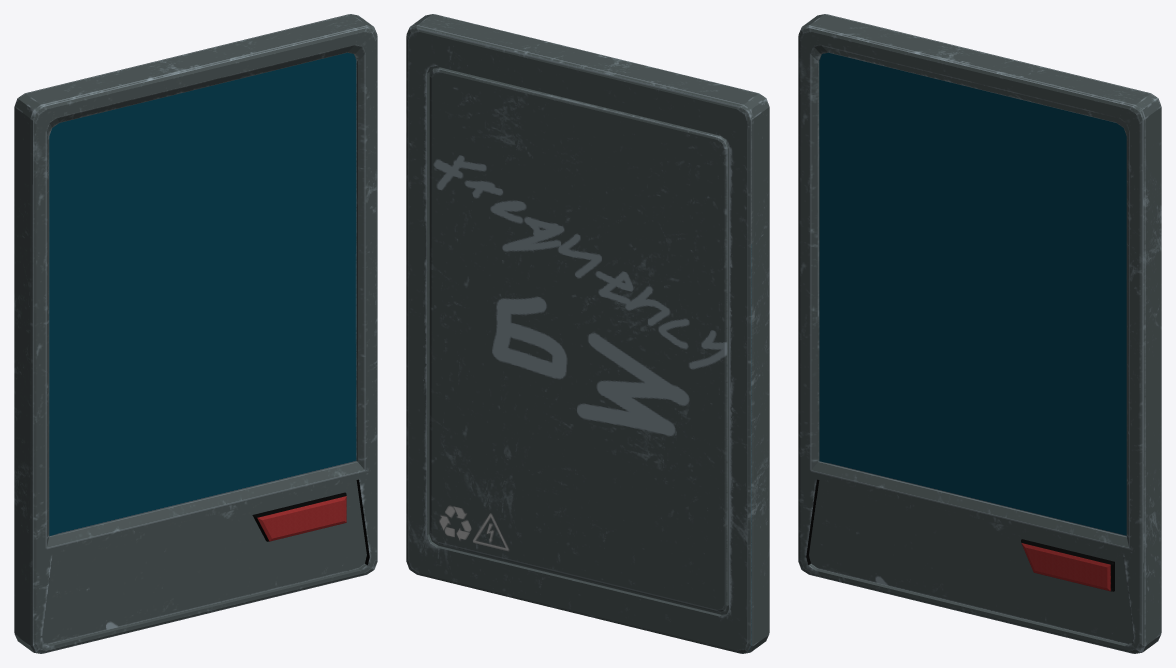
File: pda blend text.fbx
The picture shows the model from 3 angles, left to right: view 1: azimuth 30°, elevation 25°; view 2: azimuth 150°, elevation 25°; view 3: azimuth 330°, elevation 25°; orthographic projection.
Parts seen in each view (by area): view 1: pda; view 2: pda; view 3: pda.
Part boxes in pixels (bbox=[...]): pda: bbox=[14, 14, 377, 653]; pda: bbox=[406, 14, 769, 653]; pda: bbox=[798, 14, 1161, 653].
Bounding box in the file's own units: 132 × 200 × 13.56.
1 material, 1 textured.
